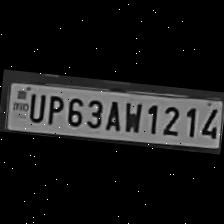1: (140, 100, 160, 136), (178, 103, 198, 139)
2: (157, 102, 182, 138)
3: (83, 94, 105, 130)
4: (196, 104, 220, 140)
6: (62, 94, 84, 128)
A: (102, 96, 124, 132)
P: (43, 91, 65, 127)
U: (24, 90, 46, 124)
W: (119, 98, 144, 134)
